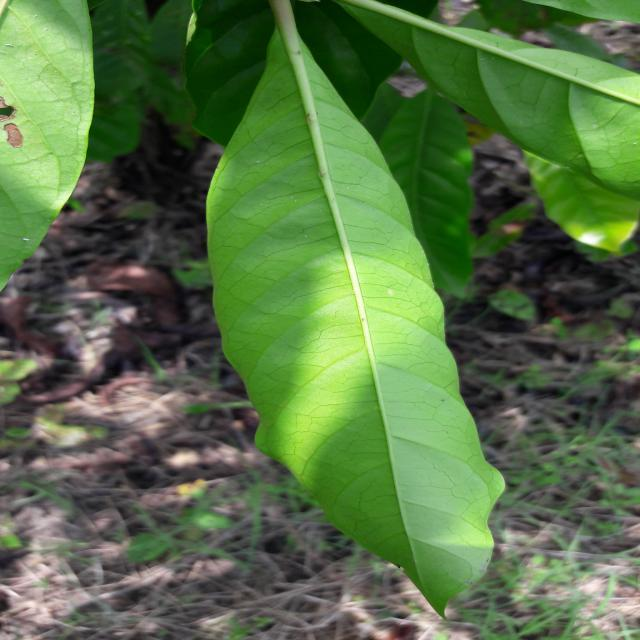Sanas: (205, 0, 508, 617)
